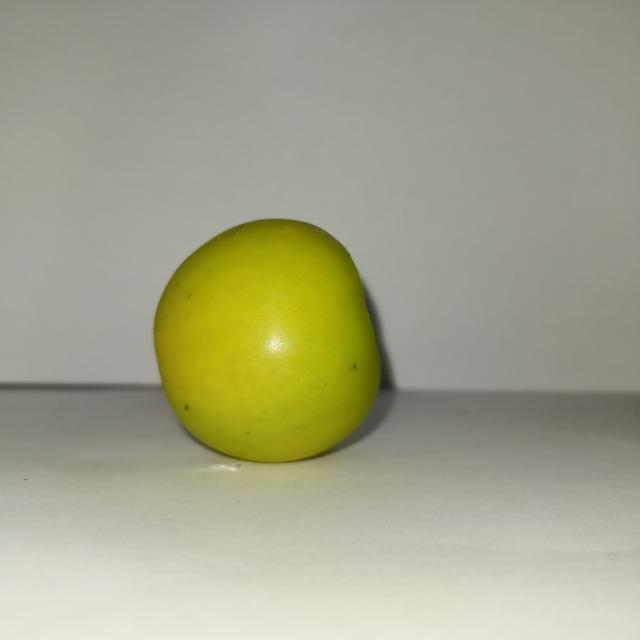Red: (151, 216, 382, 463)
